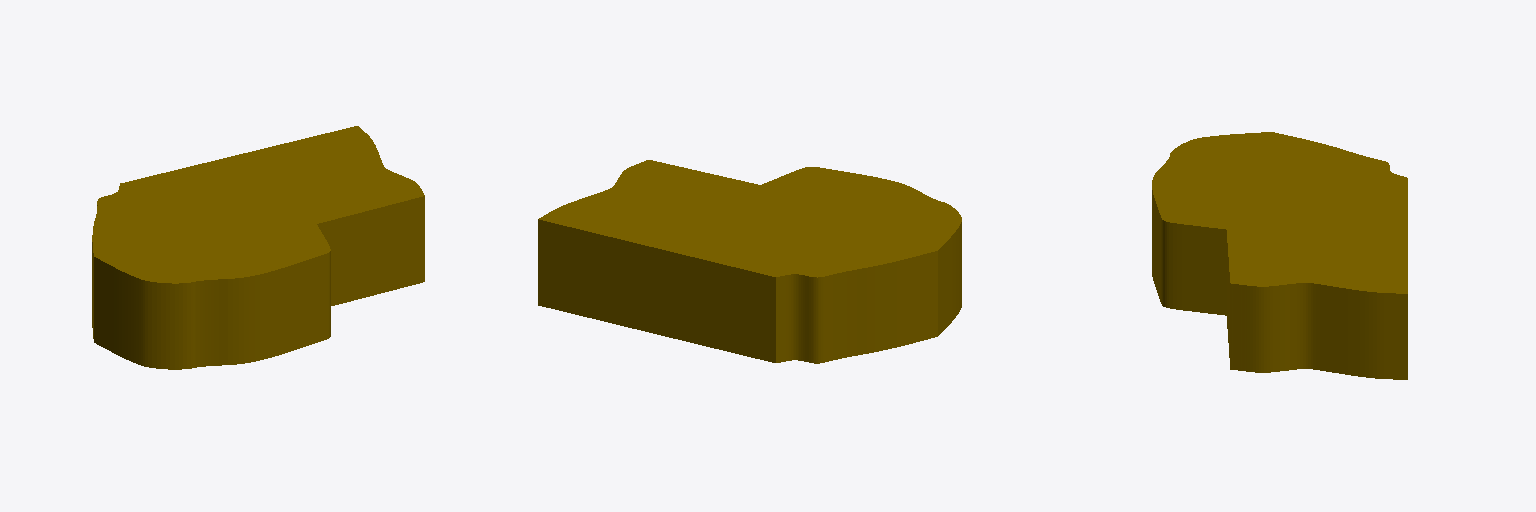
The model's file is North_America_09.obj.
The picture shows the model from 3 angles: view 1: azimuth 30°, elevation 25°; view 2: azimuth 150°, elevation 25°; view 3: azimuth 270°, elevation 25°; orthographic projection.
Visible parts, largest first — view 1: North_America_09_path4184; view 2: North_America_09_path4184; view 3: North_America_09_path4184.
Part boxes in pixels (x1,y1,x2,y2): North_America_09_path4184: (92,126,424,369); North_America_09_path4184: (538,160,961,363); North_America_09_path4184: (1152,132,1407,379).
Size of the model in its own units: 0.4037 by 0.1 by 0.2695.